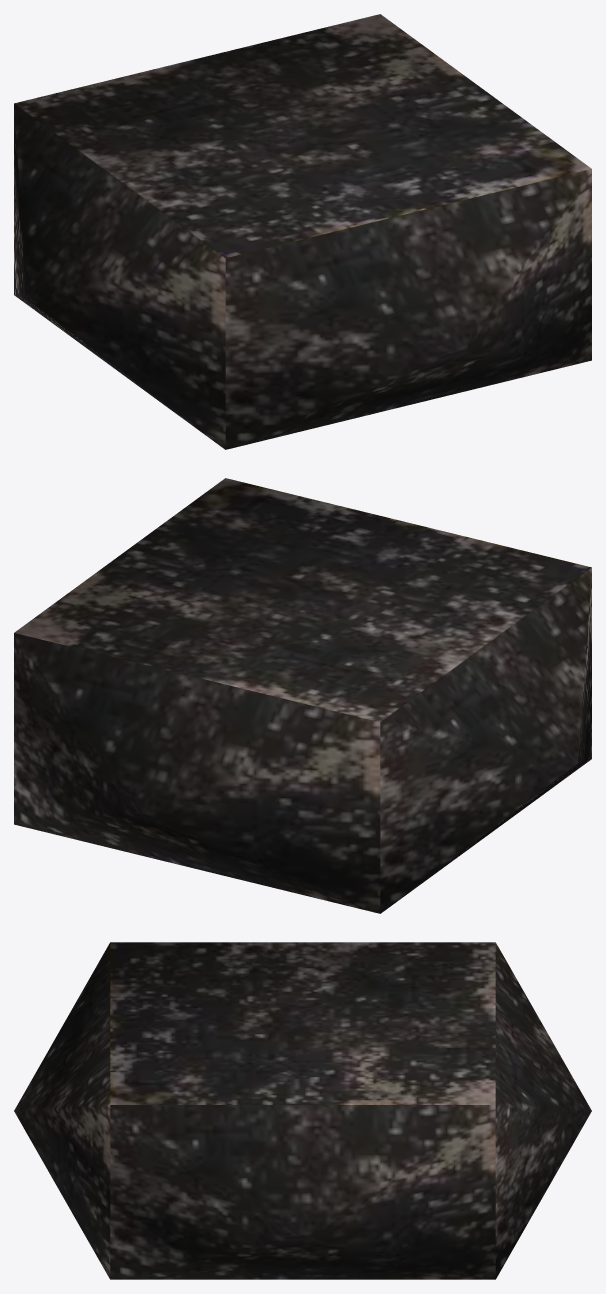
File: ITMI_RUNEBLANK.glb
The picture shows the model from 3 angles, top to bottom: view 1: azimuth 30°, elevation 25°; view 2: azimuth 150°, elevation 25°; view 3: azimuth 270°, elevation 25°; orthographic projection. The views are drawn at different scales.
Visible parts, largest first — view 1: Mesh; view 2: Mesh; view 3: Mesh.
Boxes of the visible parts, box(x1,y1,x2,y2) form: Mesh: box(14, 14, 591, 449); Mesh: box(14, 478, 591, 913); Mesh: box(14, 942, 591, 1279).
Size of the model in its own units: 0.27 by 0.09 by 0.27.
Materials: 1 (1 with a texture image).
